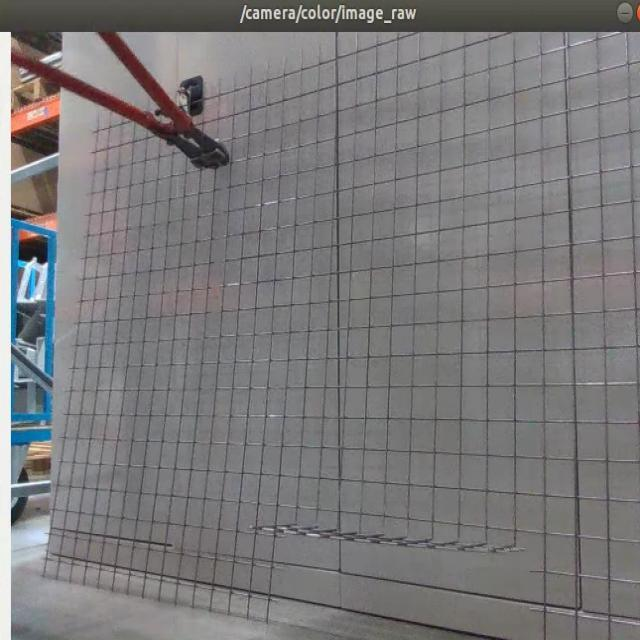fence line: (269, 531, 535, 633)
